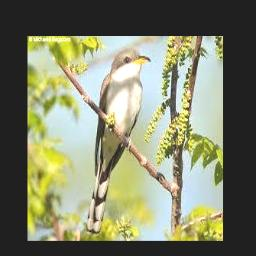Cuckoo: (85, 50, 151, 235)
